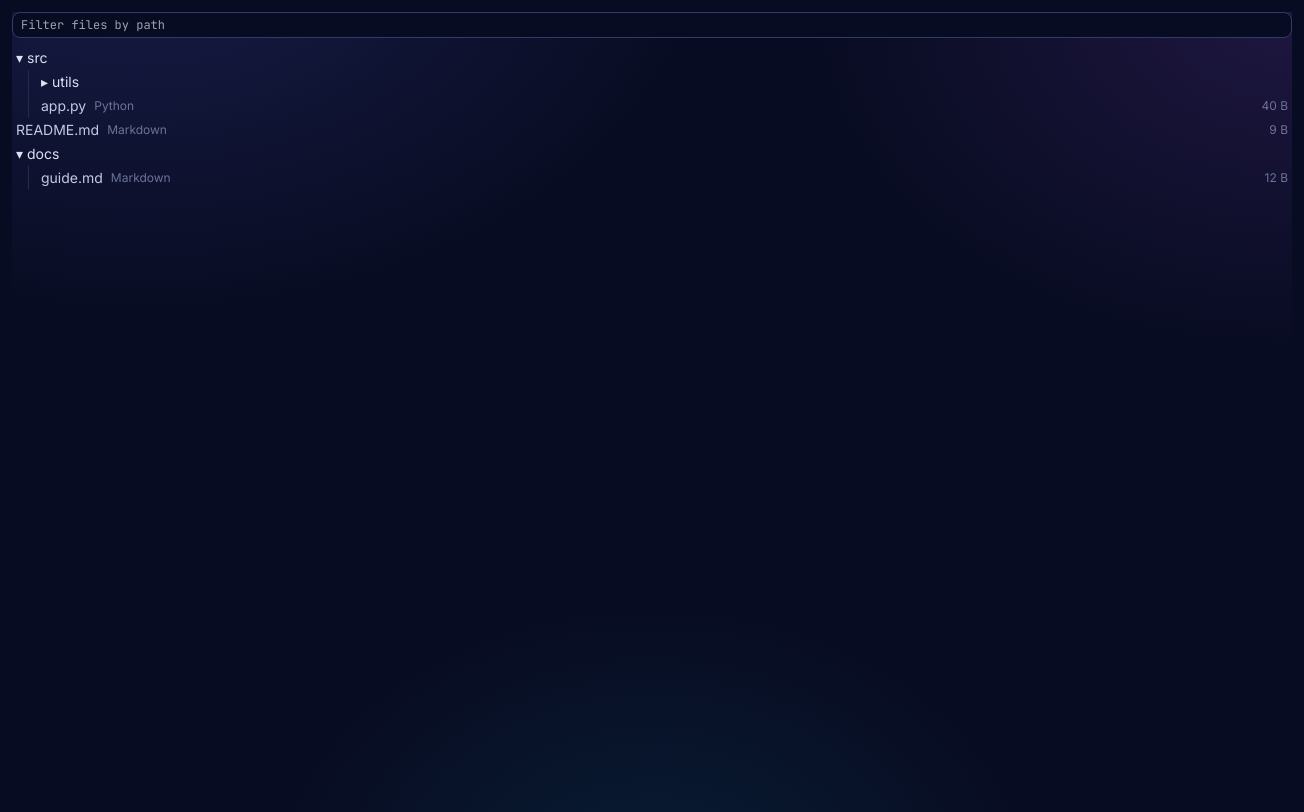
Test: File filter matching › matches uppercase text and reports a single match
Type "HELPER" into the search field labelled "Filter files by path". click: coordinates (652, 25)
box: 12,12 -> 1292,38
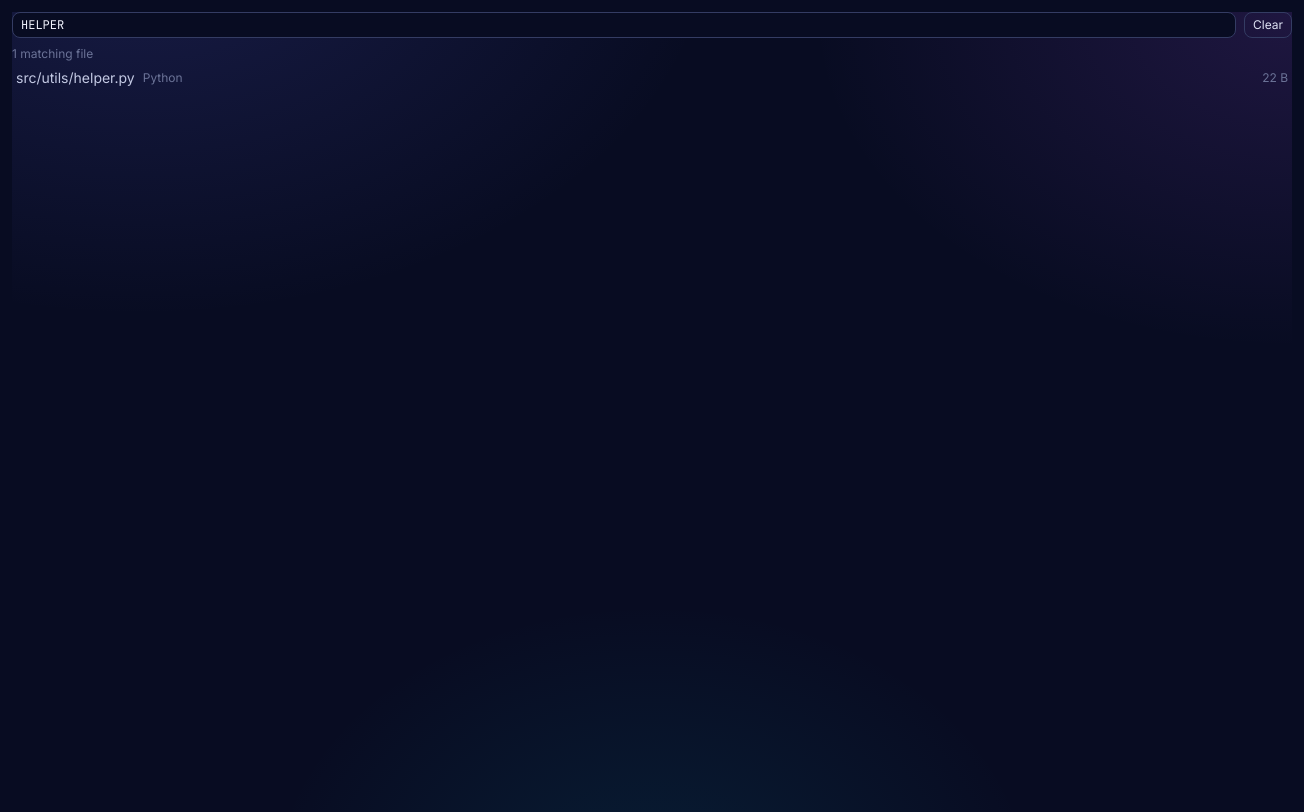
Result: the text with test id "file-filter-count" reads "1 matching file" at 12,46 -> 93,61
